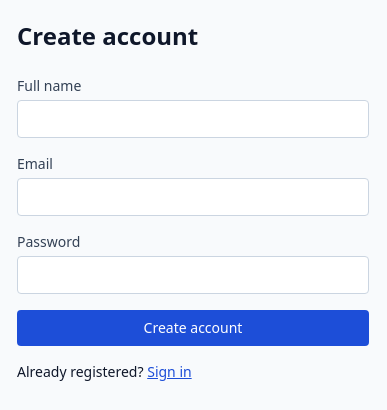
Test: register flow › maps validation fields onto inputs
Type "A Seitov" into the field labelled "Full name" at coordinates (193, 119), box [17,100,369,138]
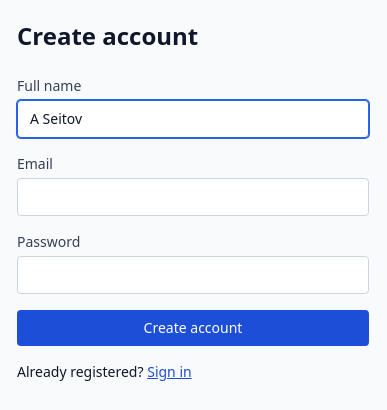
Type "a@x.kz" into the field labelled "Email" at coordinates (193, 197), box [17,178,369,216]
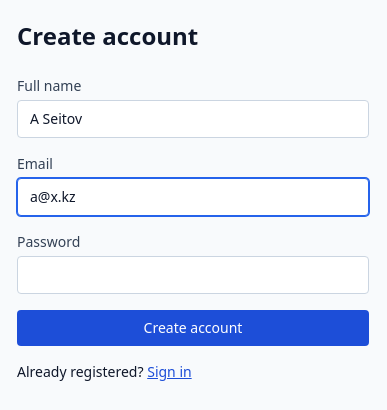
Type "long-enough-pw" into the password field labelled "Password" at coordinates (193, 275), box [17,256,369,294]
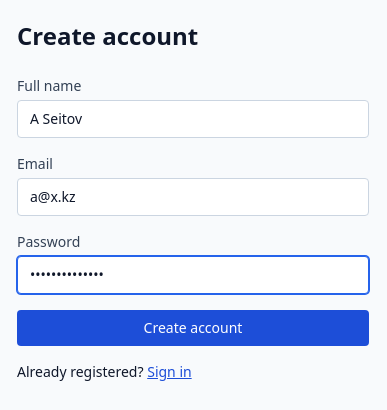
Click the button "Create account" at coordinates (193, 328), box [17,310,369,346]
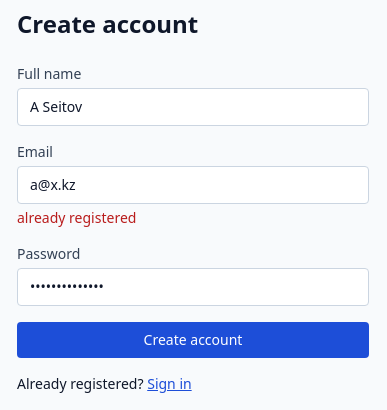
Now the text "already registered" is shown, box [17,208,136,227]
